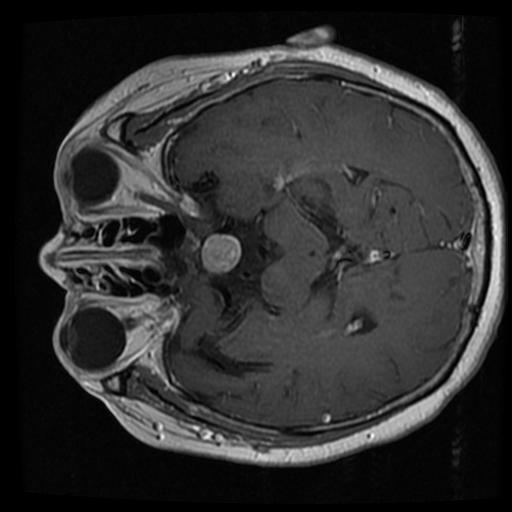pituitary tumour: (199, 234, 241, 273)
